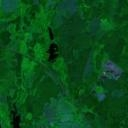alloviz: (9, 101, 22, 128), (45, 42, 60, 63), (46, 25, 55, 40)
